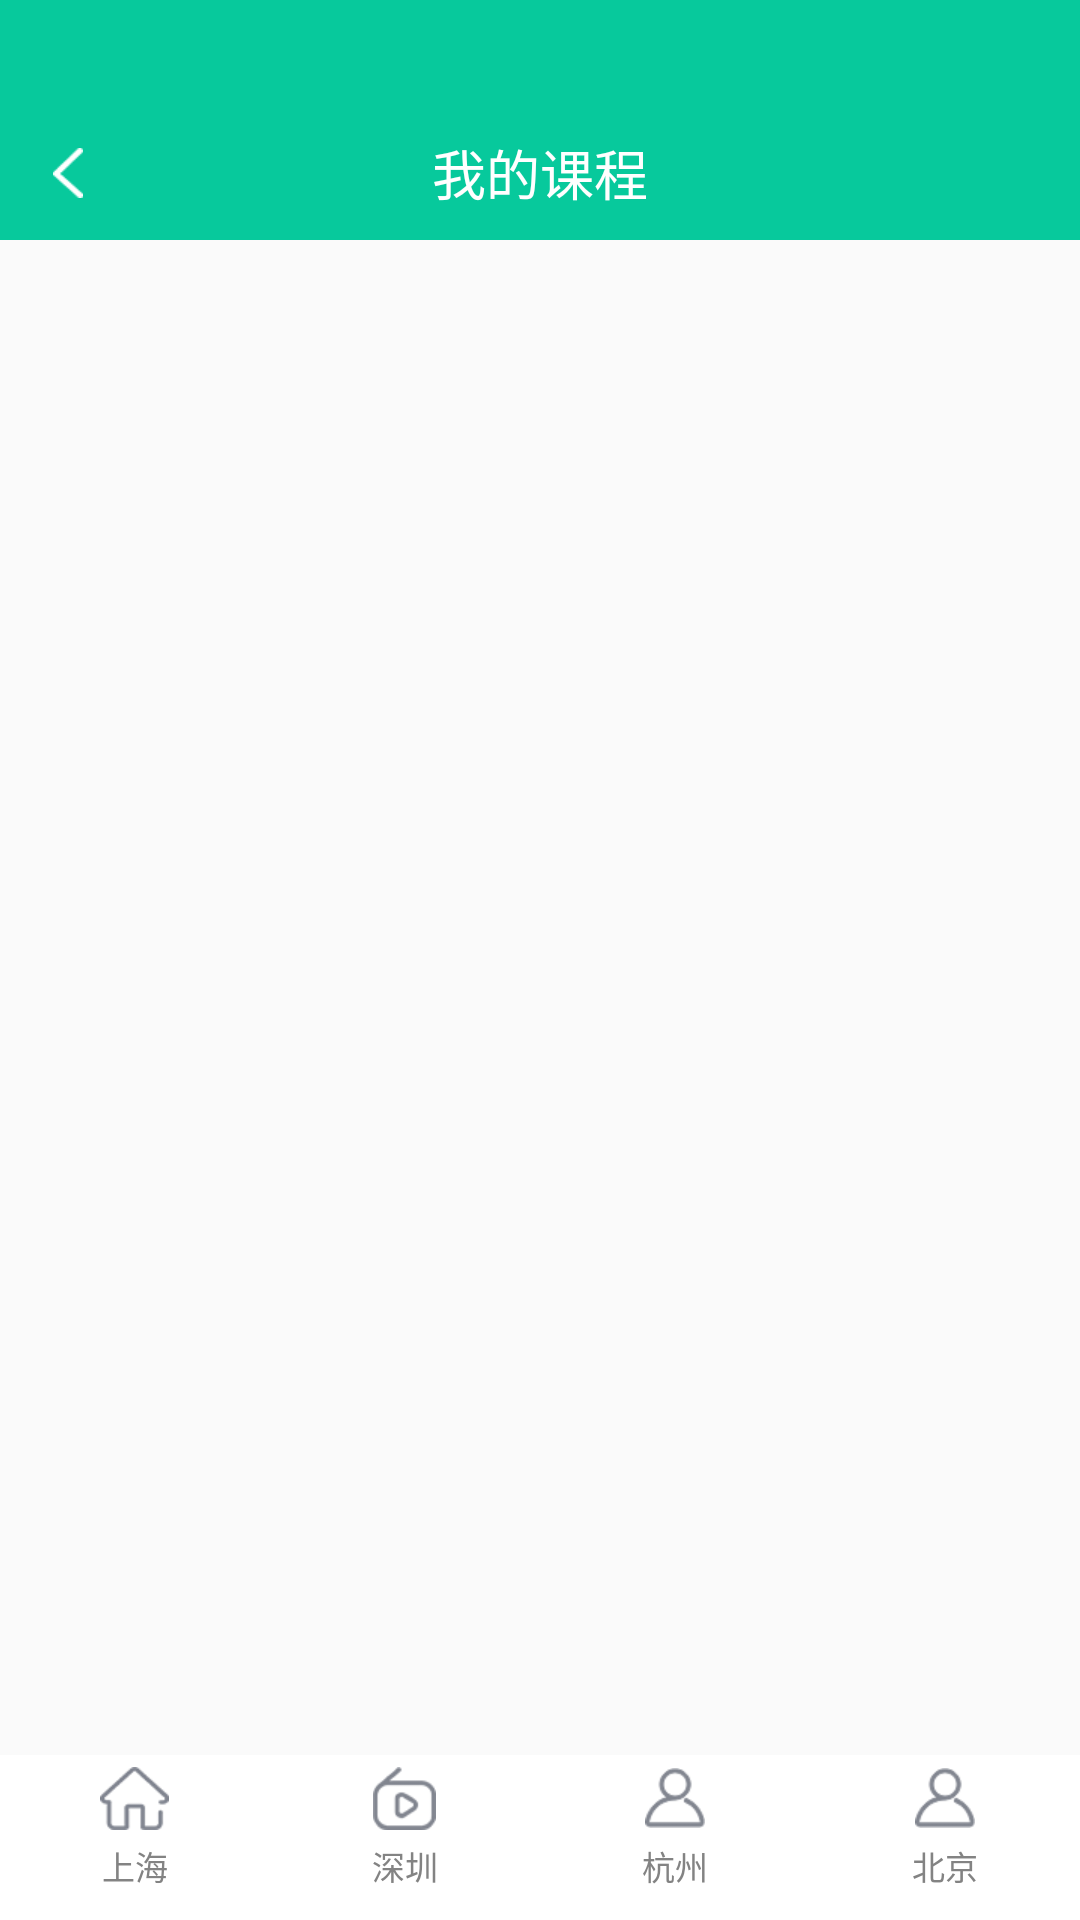

Screen size 1080px x 1920px. Icon name, then its box in pixels as box=[x1, y1, x2, y2]:
back: box=[53, 148, 83, 198]
